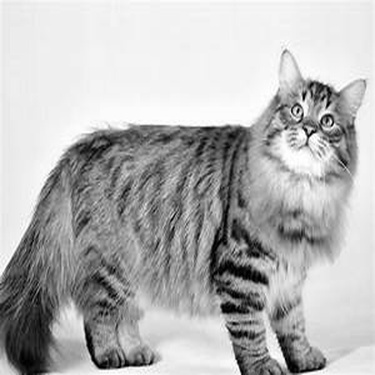cat: (7, 46, 364, 374)
